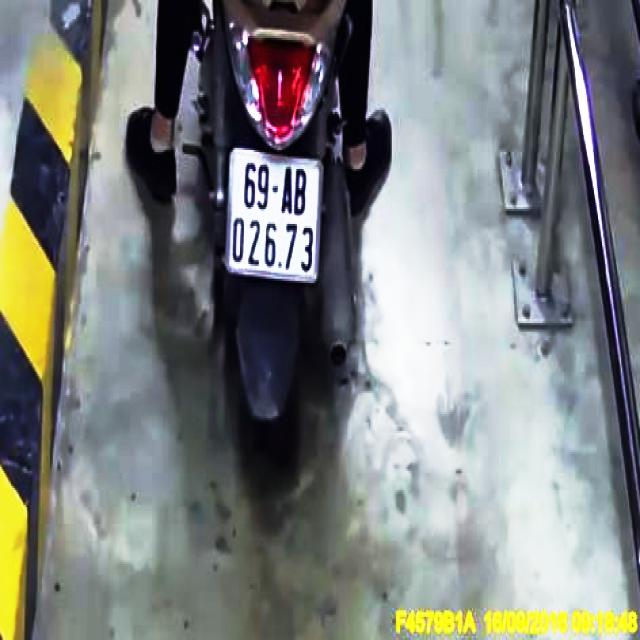license_plate: (227, 148, 324, 283)
